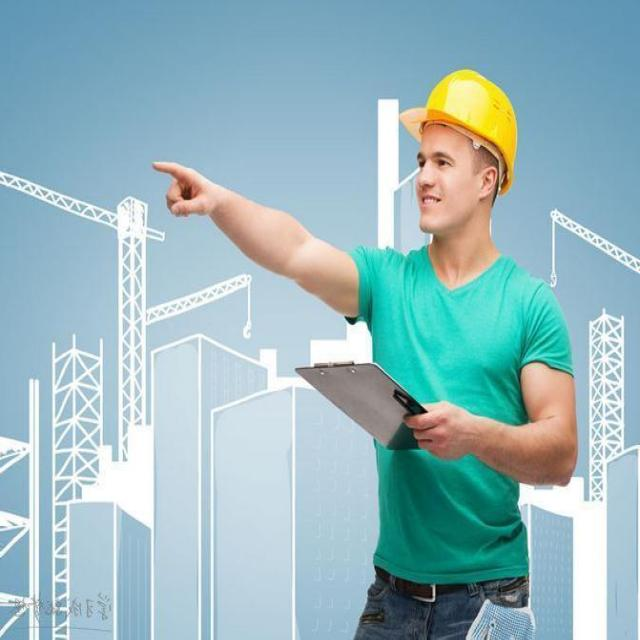helmet: (388, 46, 532, 189)
